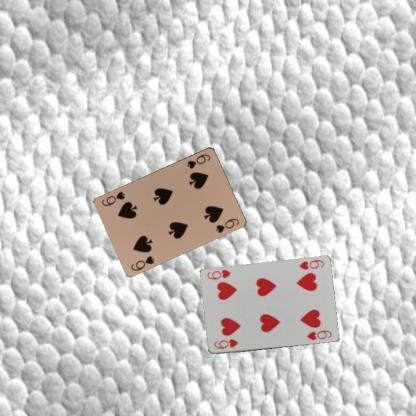6h: (296, 257, 325, 271), (212, 336, 239, 350)
6s: (184, 151, 212, 170), (128, 254, 156, 272)
